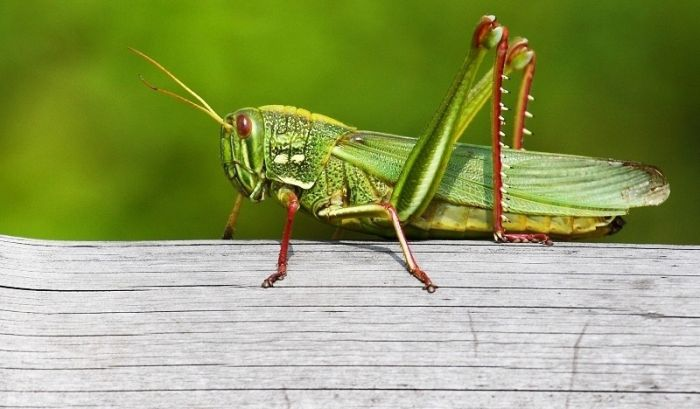huangchong: (189, 72, 653, 263)
